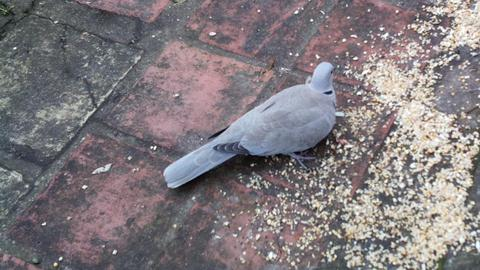collared dove: (163, 61, 338, 189)
